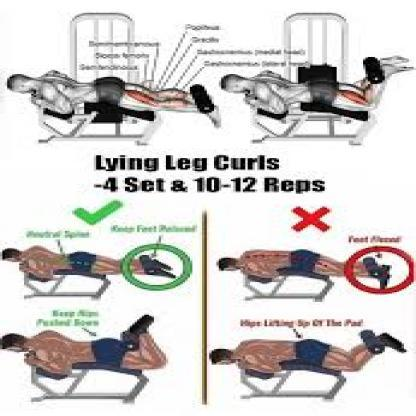reg curl machine: (7, 10, 225, 150), (226, 9, 407, 151), (0, 308, 173, 403), (211, 328, 410, 403)
